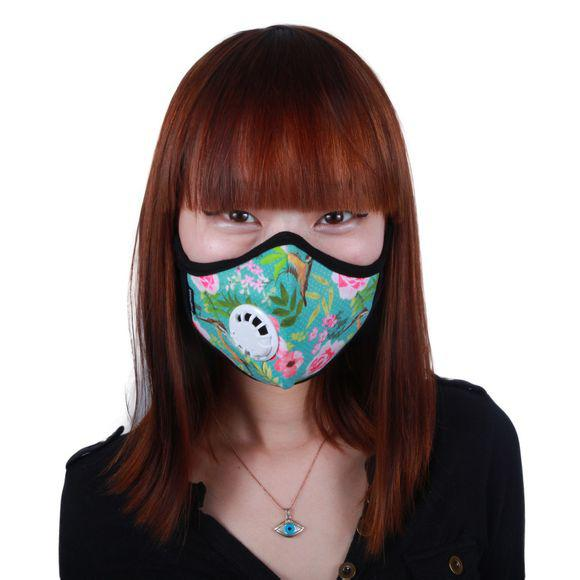OK: (192, 188, 384, 371)
